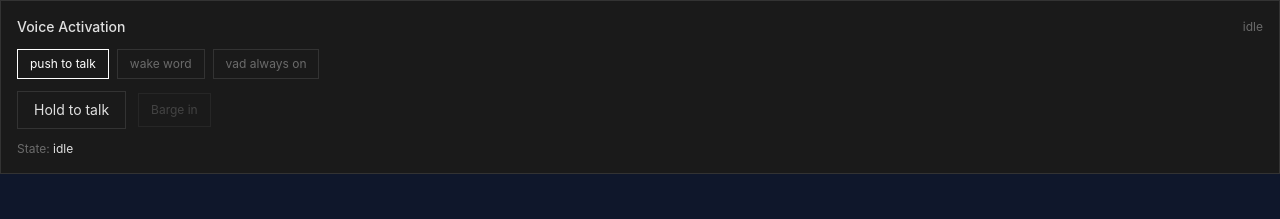
Scenario: VoiceActivation › shows denied status when microphone permission is rejected
The image size is (1280, 219).
Press the mouse on the button with test id "push-to-talk-button" at (72, 110), box [17,91,126,129]
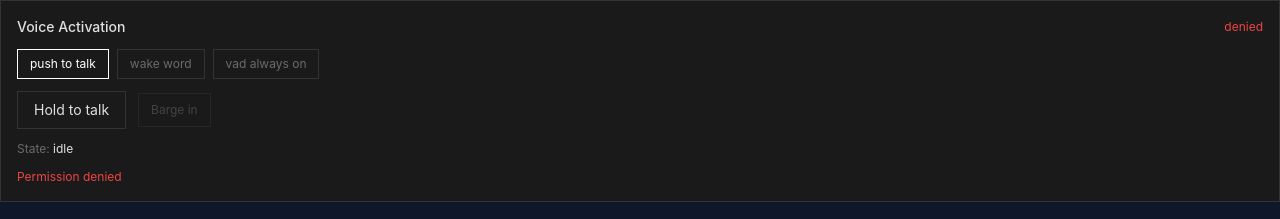
Expected: the text with test id "mic-status" reads "denied", [1224,19,1263,34]
Expected: the text "Permission denied" is shown, [17,169,122,184]
